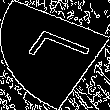L_SE: (16, 29, 94, 81)
